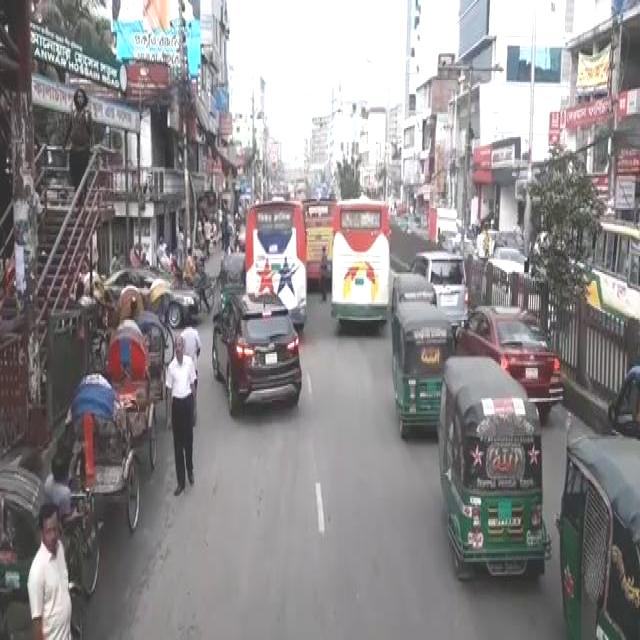BUS: (330, 200, 392, 334)
